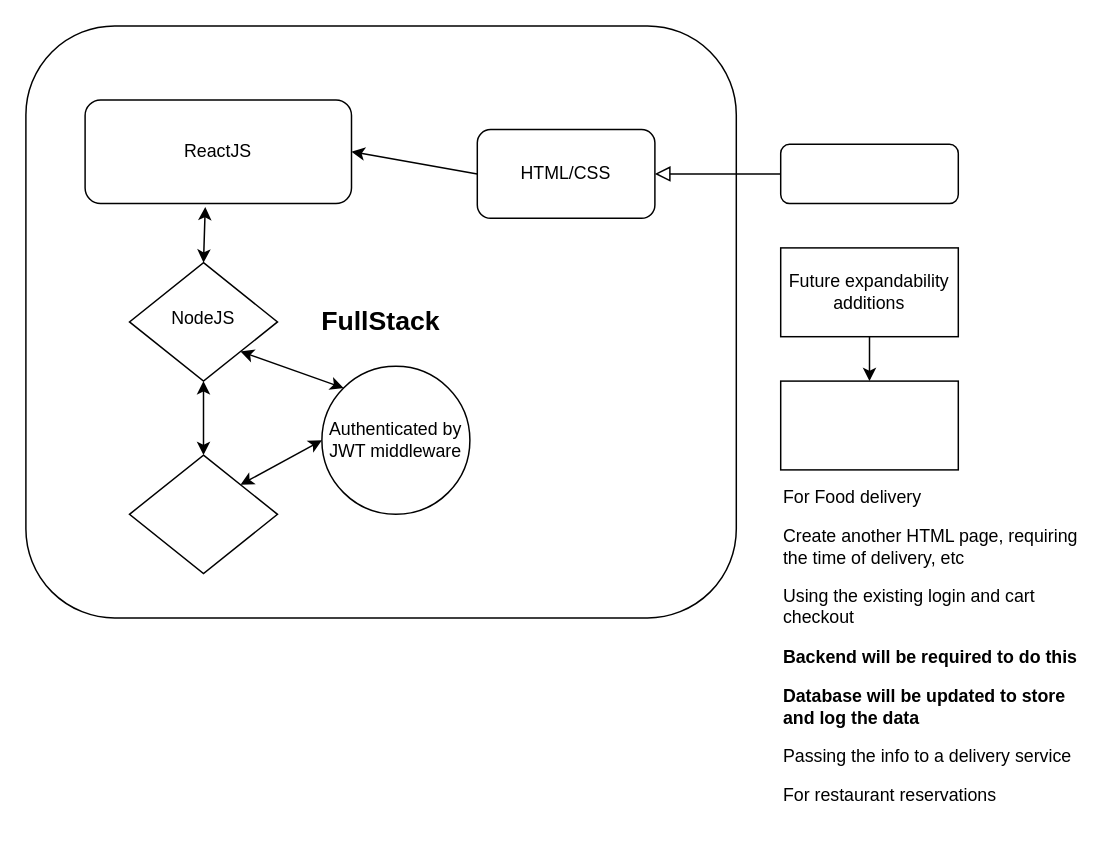
The diagram is 1117 pixels wide and 841 high, and some of its shapes have lost their labels. Each missing label, with the centre of its shape:
"DB - SQLite" belongs at (203,514).
"Food delivery / Restaurant reservations" belongs at (868,425).
"Users" belongs at (868,173).
